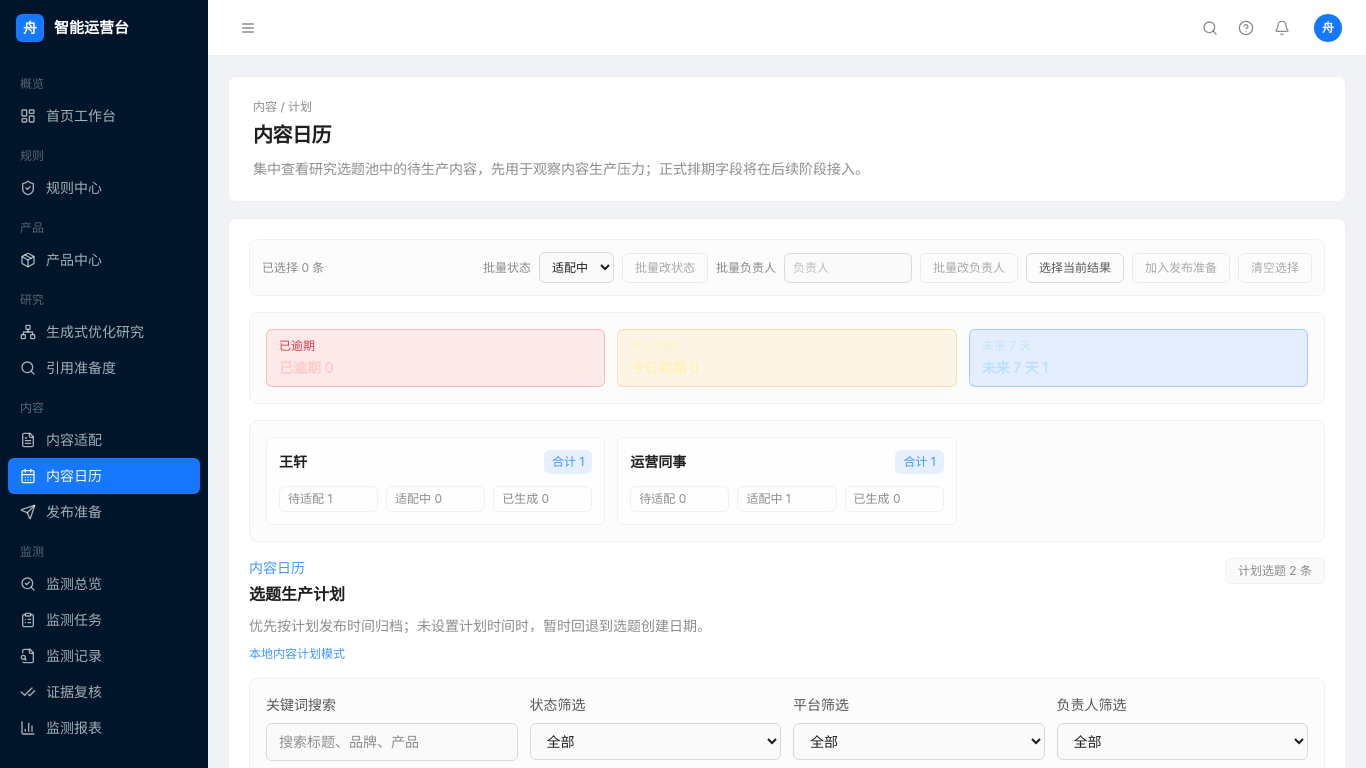
Test: P28 内容日历独立页面 › 支持一键清空所有筛选条件
The width and height of the screenshot is (1366, 768).
In the field labelled "关键词搜索": (392, 742) 266,723 -> 518,761, type "测试一"
(page scrolled)
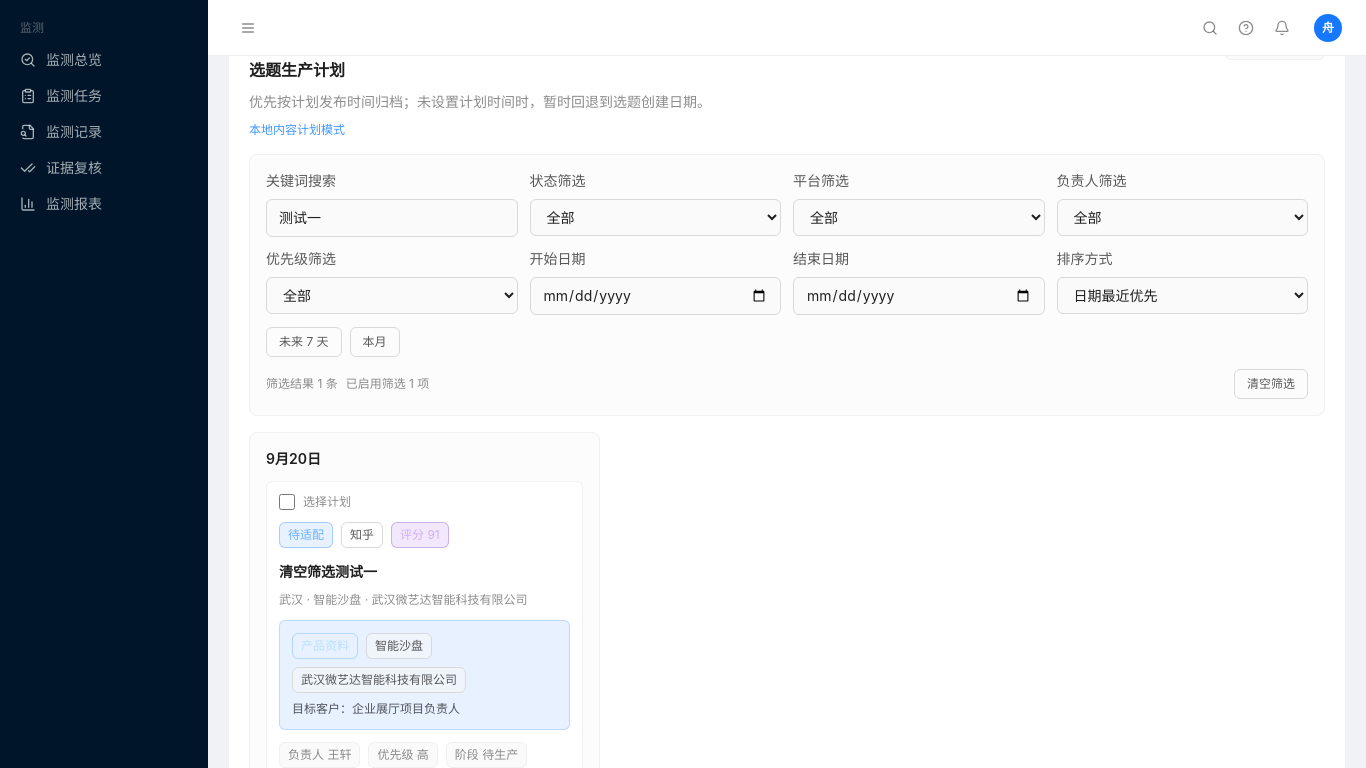
Expected: the text "清空筛选测试一" is shown, 279,563 -> 377,580
Result: the text "筛选结果 1 条" is shown at 266,376 -> 338,392
Click the button "清空筛选": (1271, 384) 1234,369 -> 1308,399
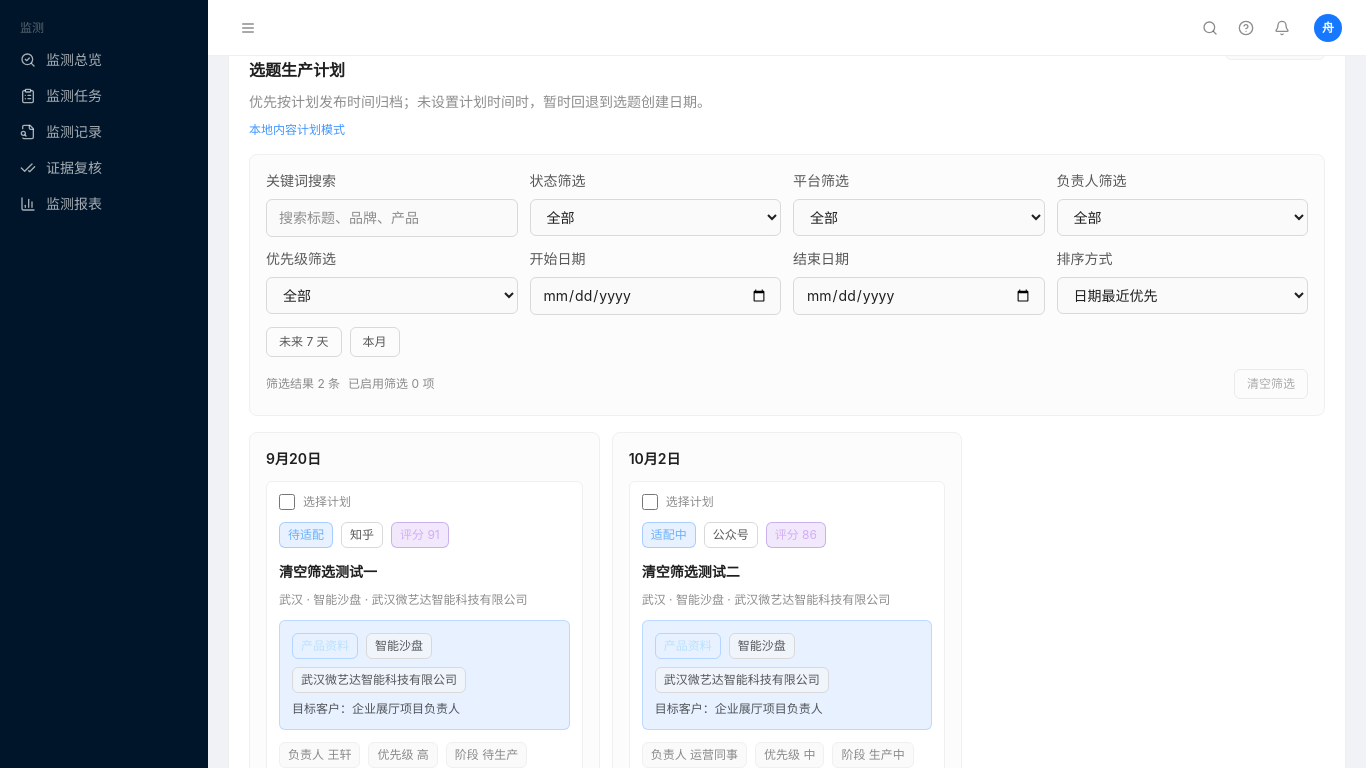
Expected: the text "清空筛选测试一" is shown, 279,563 -> 377,580
Result: the text "筛选结果 2 条" is shown at 266,376 -> 340,392
Result: the text "清空筛选测试二" is shown at 642,563 -> 740,580
